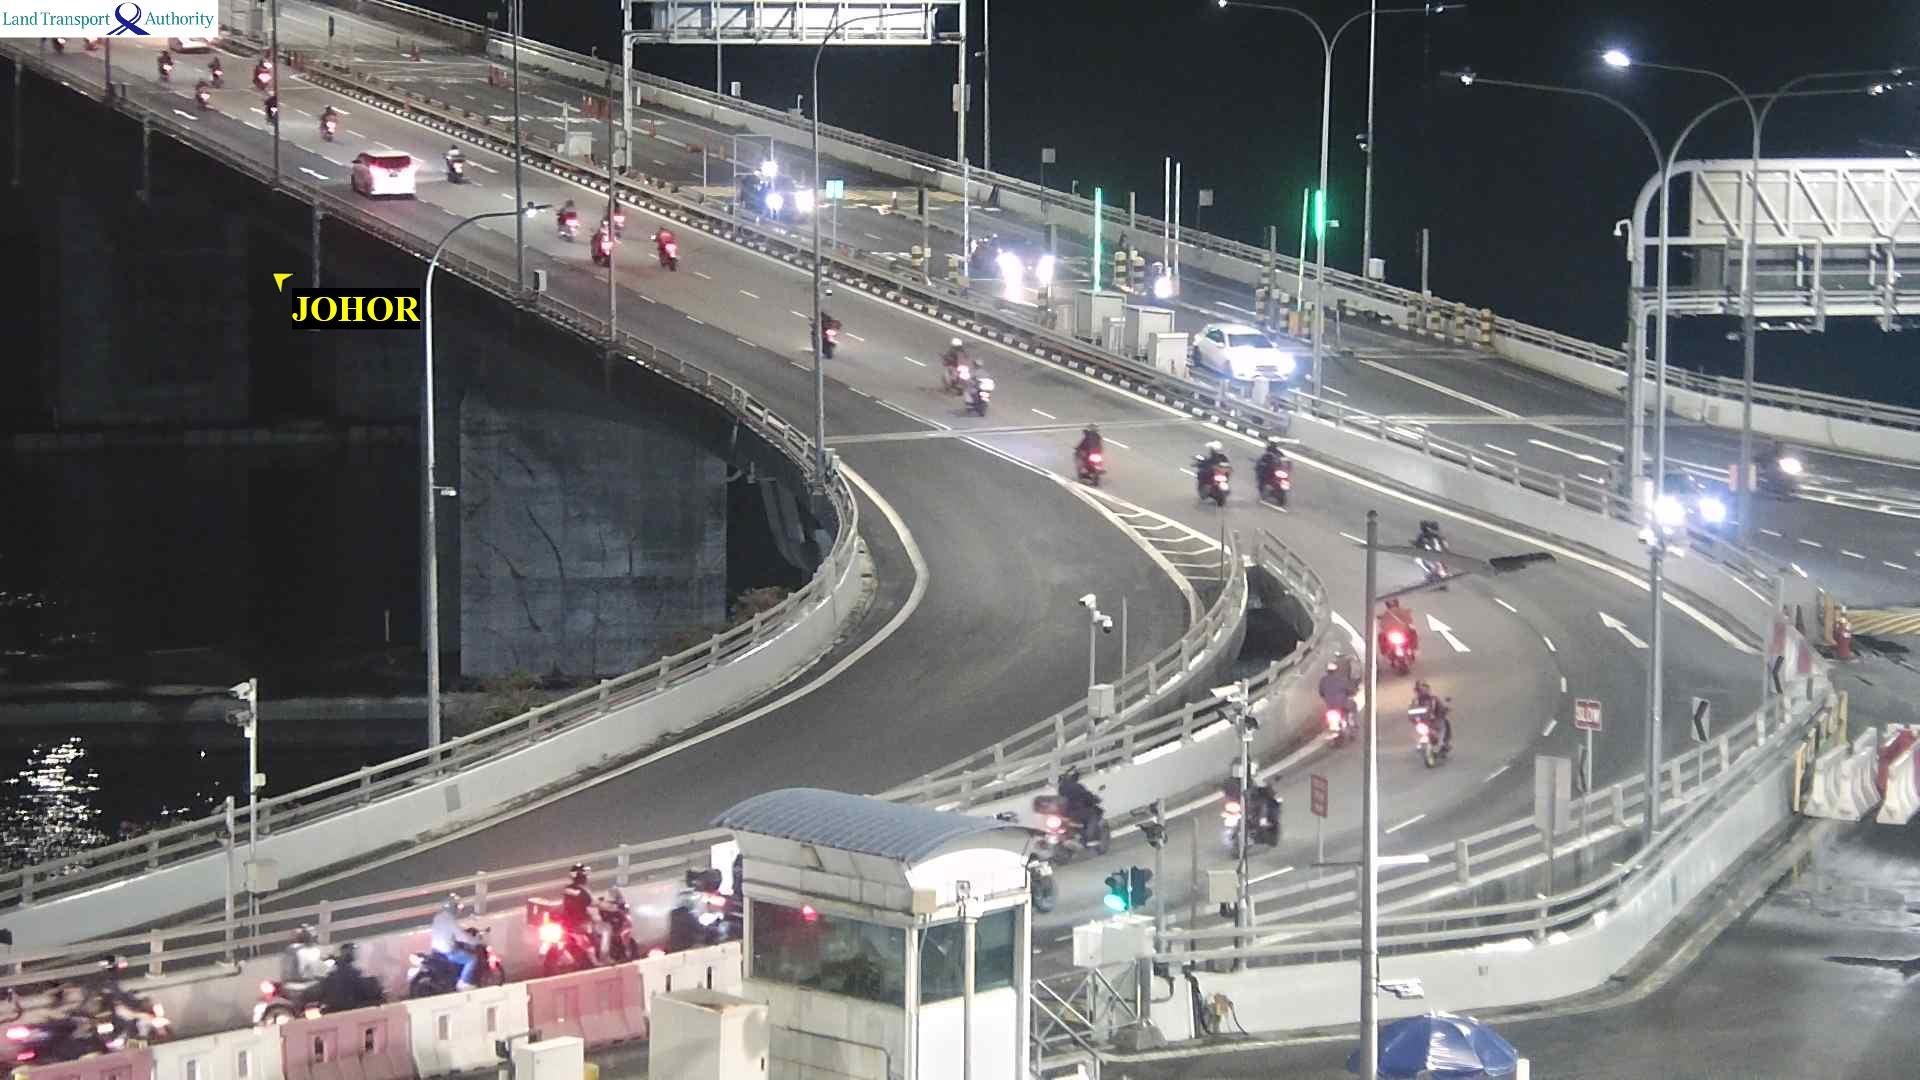vehicle-secondlink-johor: (4, 985, 160, 1066), (253, 954, 378, 1018), (1027, 777, 1104, 860), (583, 881, 640, 965), (428, 889, 490, 951), (546, 869, 590, 953), (357, 149, 422, 199), (1226, 752, 1258, 850), (1407, 682, 1449, 753), (947, 350, 992, 416), (292, 914, 352, 960), (1384, 594, 1420, 668), (1325, 647, 1352, 741), (1409, 518, 1447, 582), (1191, 446, 1229, 506), (1257, 444, 1291, 506), (808, 307, 845, 357), (1072, 424, 1105, 480), (1206, 450, 1234, 504), (445, 146, 469, 179), (556, 208, 580, 240), (320, 108, 343, 141), (655, 229, 674, 265), (151, 51, 172, 83), (596, 236, 618, 264), (264, 92, 283, 122), (163, 46, 180, 73)
vehicle-secondlink-singapore: (1625, 468, 1715, 538), (1197, 330, 1307, 380), (967, 234, 1060, 277), (745, 167, 812, 223)
